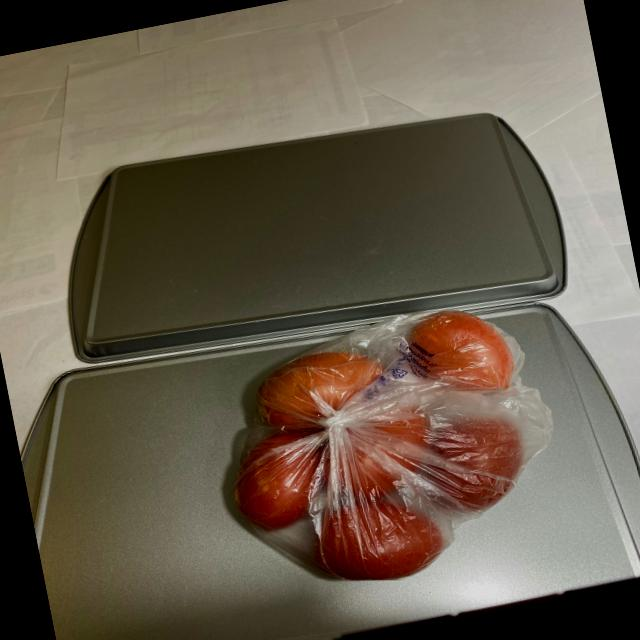tomato: (216, 296, 549, 604)
